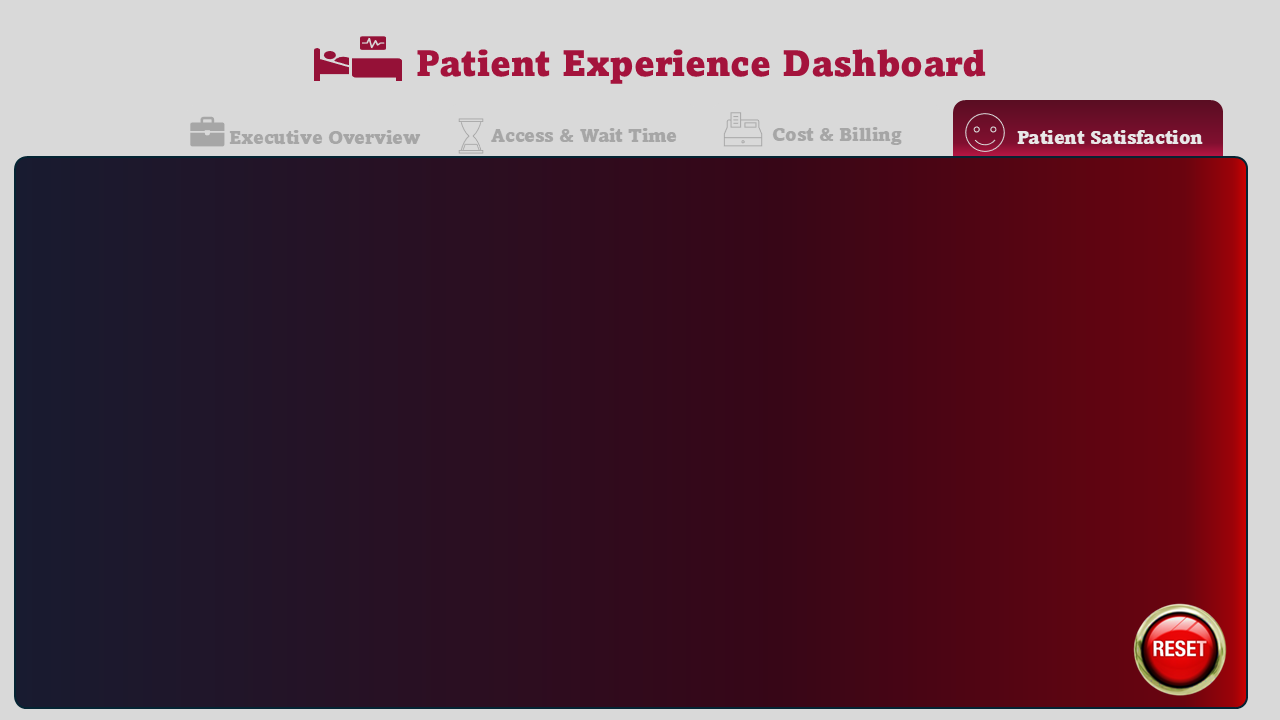

Layout of this report page (visuals, bound fields, positions):
{"tool":"powerbi","page":{"name":"Patient Satisfaction","canvas":[1280,720],"ordinal":3},"visuals":[{"type":"card","title":"Trust Score","fields":{"Values":["Avg(FactSurveys.TrustScore)"]},"box":[-1.7,163.1,245.5,81.8],"z":0},{"type":"card","title":"Resolution Rate","fields":{"Values":["FactComplaints.Resolved Rate"]},"box":[802.4,169.9,192.8,91.6],"z":1000},{"type":"card","title":"Communication Score","fields":{"Values":["Avg(FactSurveys.CommunicationScore)"]},"box":[266.4,164.6,245.5,80.3],"z":2000},{"type":"card","title":"Total Complaints","fields":{"Values":["CountNonNull(FactComplaints.ComplaintID)"]},"box":[522.5,167.6,245.5,90.9],"z":3000},{"type":"pieChart","title":"Survey Score Comparison","fields":{"Y":["Avg(FactSurveys.CommunicationScore)","Avg(FactSurveys.HCAHPSScore)","Avg(FactSurveys.TrustScore)"]},"box":[27.7,316.9,595.2,327.7],"z":4000},{"type":"clusteredColumnChart","title":"Complaint Categories","fields":{"Category":["FactComplaints.Category"],"Y":["CountNonNull(FactComplaints.ComplaintID)"]},"box":[622.9,316.9,527.7,290.4],"z":5000},{"type":"slicer","fields":{"Values":["DimDate.Year"]},"box":[1031.7,164,180.3,62.8],"z":6000},{"type":"slicer","fields":{"Values":["DimProvider.Specialty"]},"box":[1030.9,226,179.7,89.1],"z":7000},{"type":"slicer","fields":{"Values":["DimProvider.Region"]},"box":[1031.7,287.6,178.2,89.1],"z":8000},{"type":"textbox","box":[81.6,255.5,77.3,34.8],"z":9000},{"type":"textbox","box":[349.8,255.5,77.3,34.8],"z":10000},{"type":"textbox","box":[605.8,260,77.3,34.8],"z":11000},{"type":"textbox","box":[869.5,258.5,110.6,34.8],"z":12000},{"type":"actionButton","box":[172.3,113.3,254.2,59],"z":13000},{"type":"actionButton","box":[448.2,101.2,255.4,71.1],"z":14000},{"type":"actionButton","box":[691.6,101.2,255.4,62.7],"z":15000},{"type":"actionButton","box":[966.1,6.1,255.2,101.3],"z":16000},{"type":"image","box":[1105.8,573.2,125.6,125.6],"z":17000},{"type":"actionButton","box":[1105.8,573.2,125.6,125.6],"z":18000}]}

Visuals, with their boxes on the page's 1280x720 design canvas (x1, y1, x2, y2). These are canvas units, not pixel positions in the 1280x720 screenshot, which may show the page scaled, cropped or inside an application window:
"Trust Score" card: rect(-2, 163, 244, 245)
"Resolution Rate" card: rect(802, 170, 995, 262)
"Communication Score" card: rect(266, 165, 512, 245)
"Total Complaints" card: rect(522, 168, 768, 258)
"Survey Score Comparison" pieChart: rect(28, 317, 623, 645)
"Complaint Categories" clusteredColumnChart: rect(623, 317, 1151, 607)
slicer - DimDate.Year: rect(1032, 164, 1212, 227)
slicer - DimProvider.Specialty: rect(1031, 226, 1211, 315)
slicer - DimProvider.Region: rect(1032, 288, 1210, 377)
textbox: rect(82, 256, 159, 290)
textbox: rect(350, 256, 427, 290)
textbox: rect(606, 260, 683, 295)
textbox: rect(870, 258, 980, 293)
actionButton: rect(172, 113, 426, 172)
actionButton: rect(448, 101, 704, 172)
actionButton: rect(692, 101, 947, 164)
actionButton: rect(966, 6, 1221, 107)
image: rect(1106, 573, 1231, 699)
actionButton: rect(1106, 573, 1231, 699)
